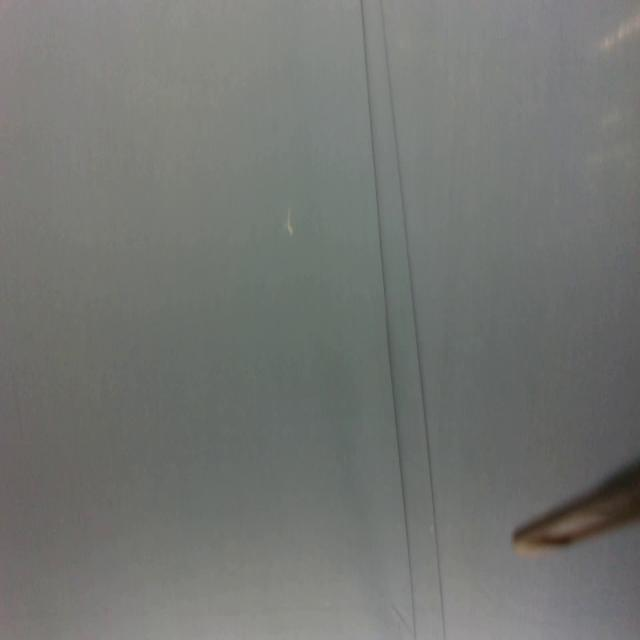crease: (358, 0, 447, 640)
hole: (280, 209, 296, 240)
